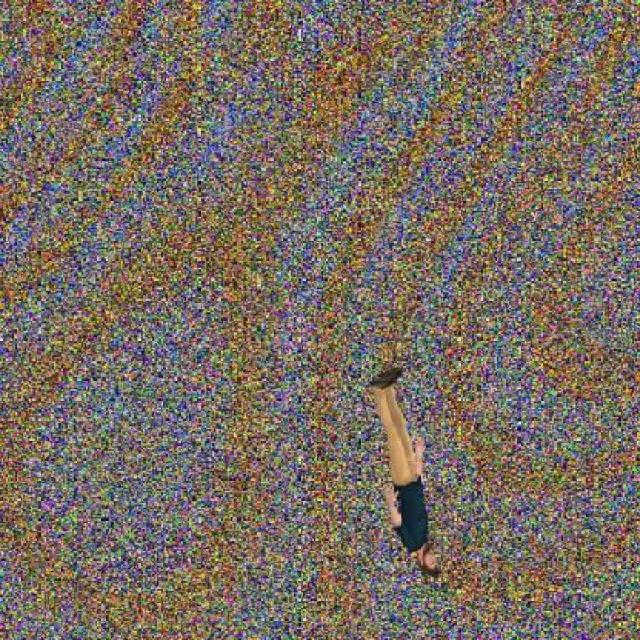Person: (368, 360, 444, 583)
